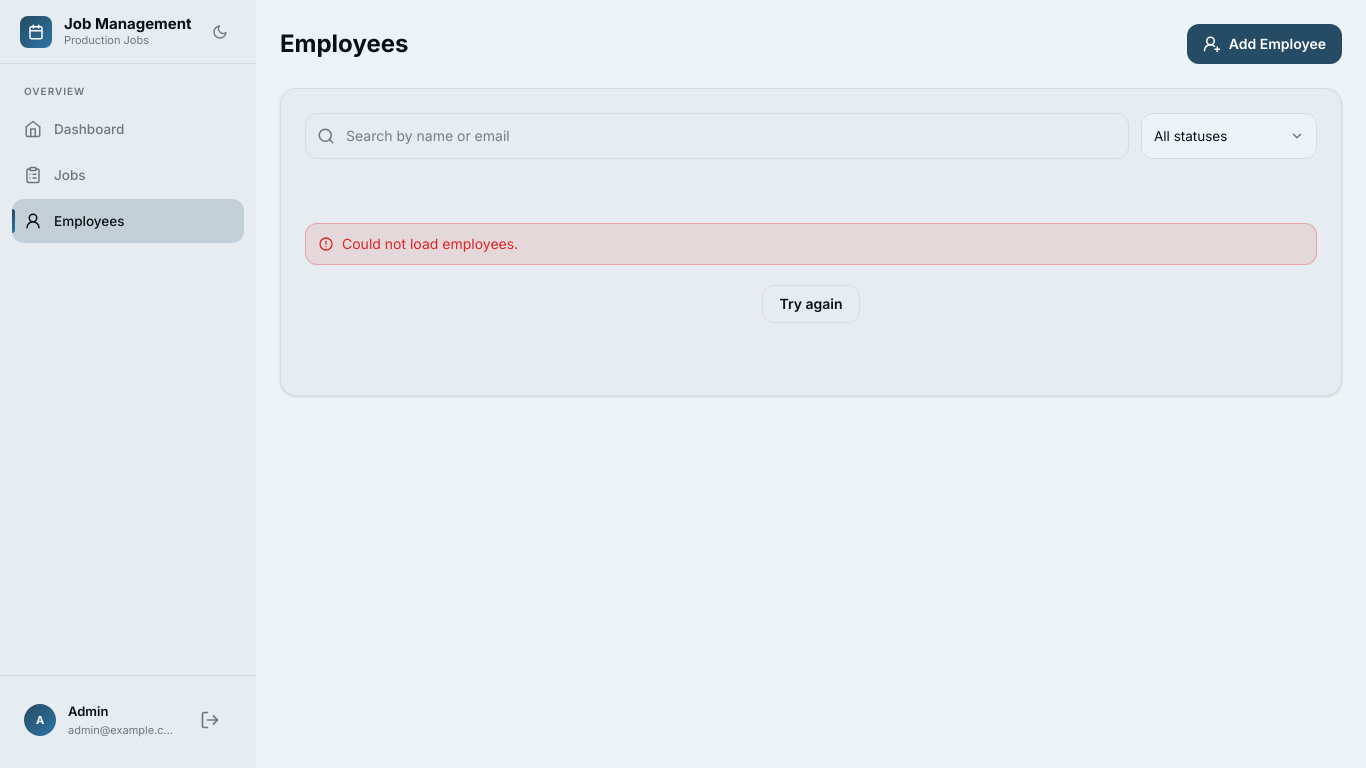
employees list states › shows an error state and recovers with Try again
This screenshot has width=1366, height=768.
Expected: the message reads "Could not load employees.", top-left (342, 235), bottom-right (518, 252)
Click the button "Try again" at (811, 304), box top-left (762, 285), bottom-right (860, 323)
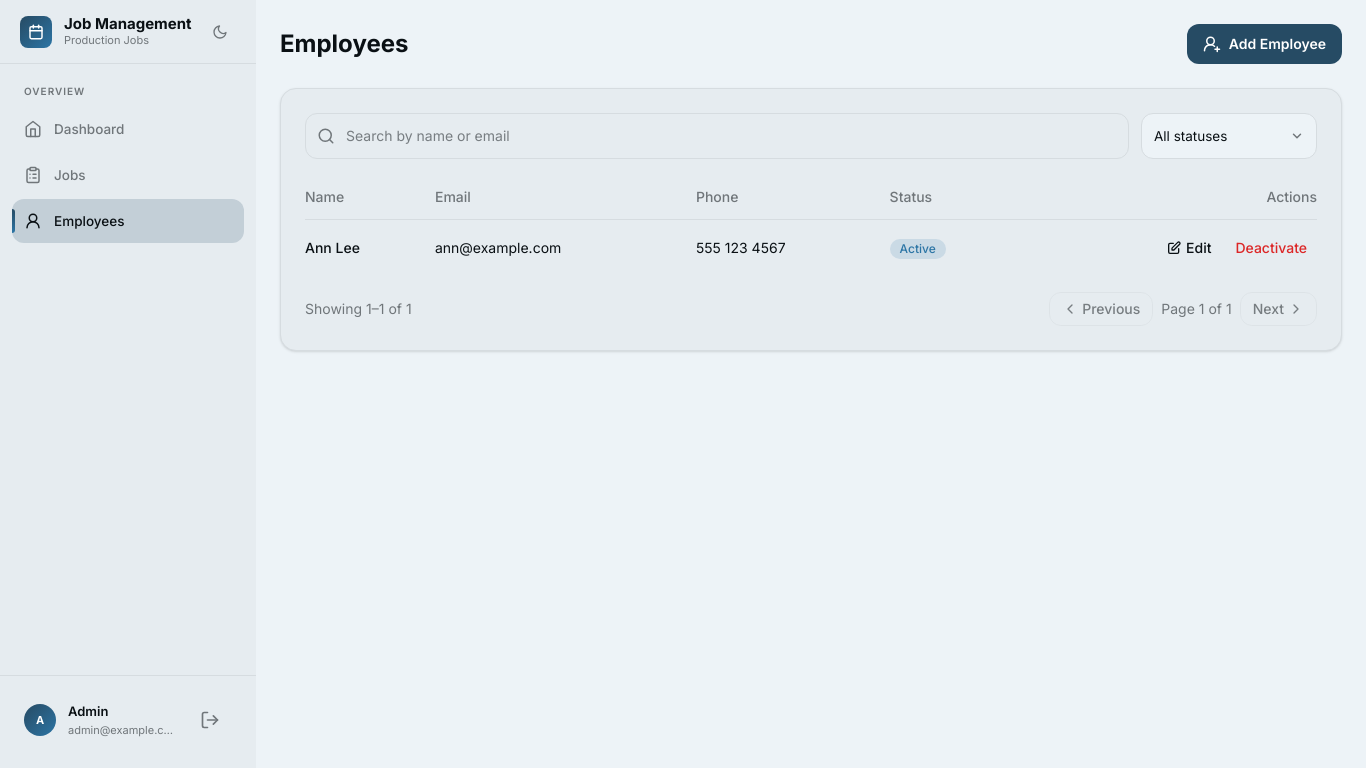
Expected: the text "Ann Lee" is shown, top-left (305, 220), bottom-right (435, 276)
